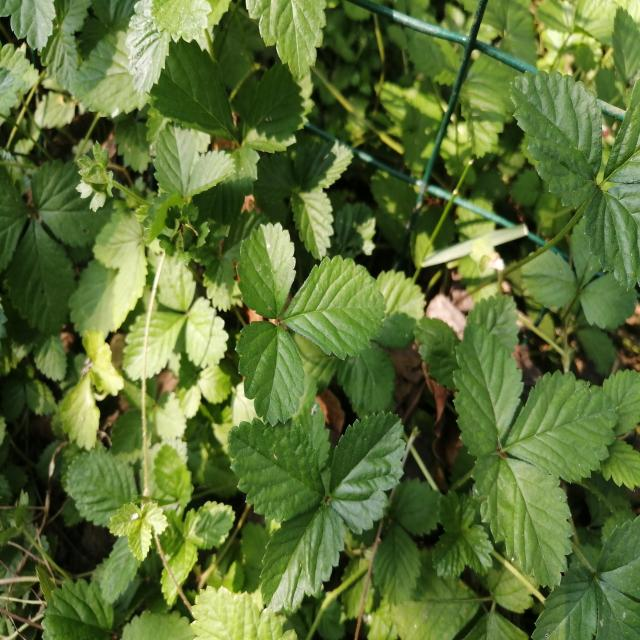Mock_strawberry: (452, 328, 620, 586), (225, 400, 422, 608)
